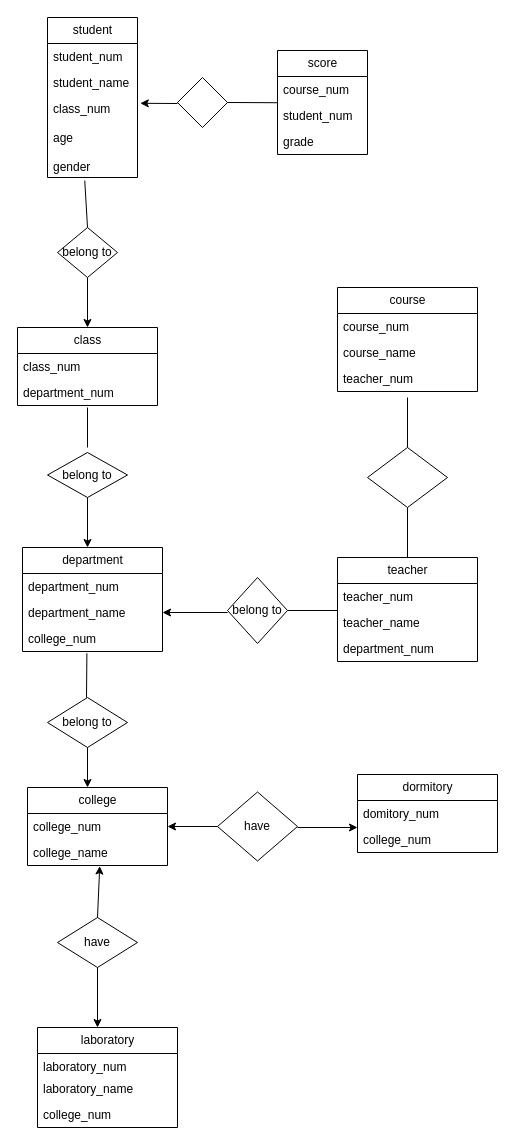
Image size: 515x1148. Some labels were removed from this diagram. Here are the shapes that lost their labels. From the top down, the centre of each, then its label:
At (202,102): "get".
At (407,477): "teach".
